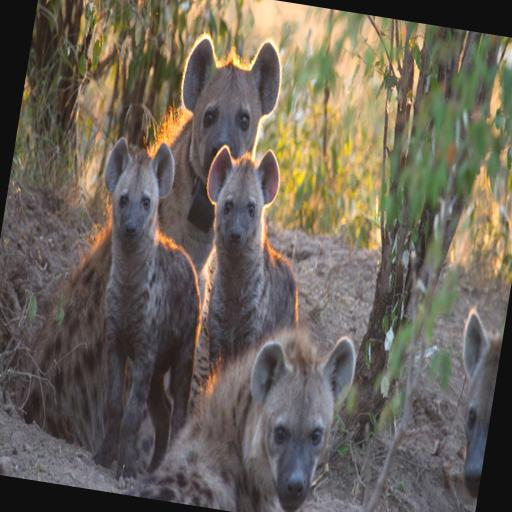hyenas: (39, 0, 404, 512)
